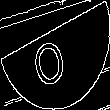O_N: (34, 23, 76, 87)
